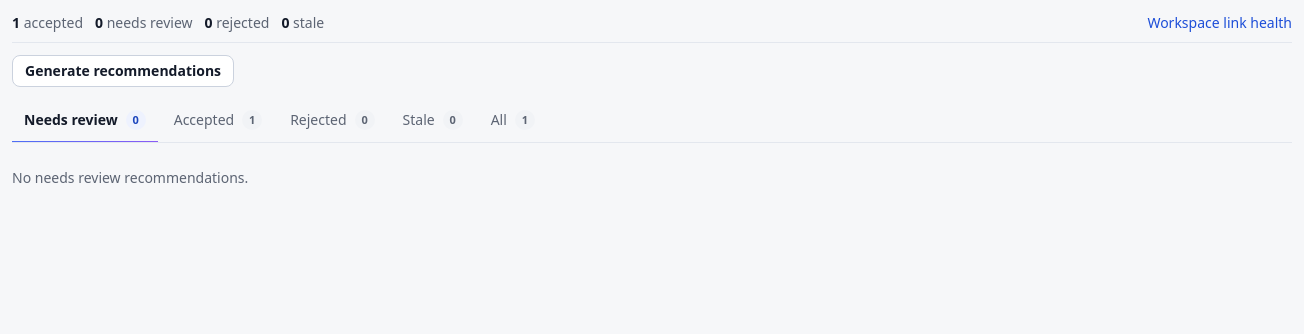
Test: InternalLinkRecommendations › does not offer Edit anchor for a non-GENERATED row even with canEdit
Expected: the button "Generate recommendations" is shown, [12, 55, 234, 87]
Click the tab "Accepted 1": (218, 121) [162, 99, 274, 143]
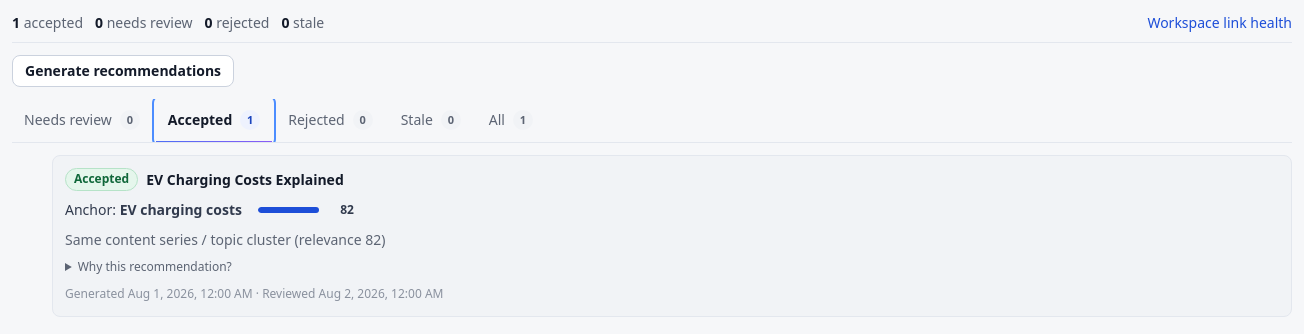
Result: the text "EV Charging Costs Explained" is shown at [146, 169, 344, 190]
